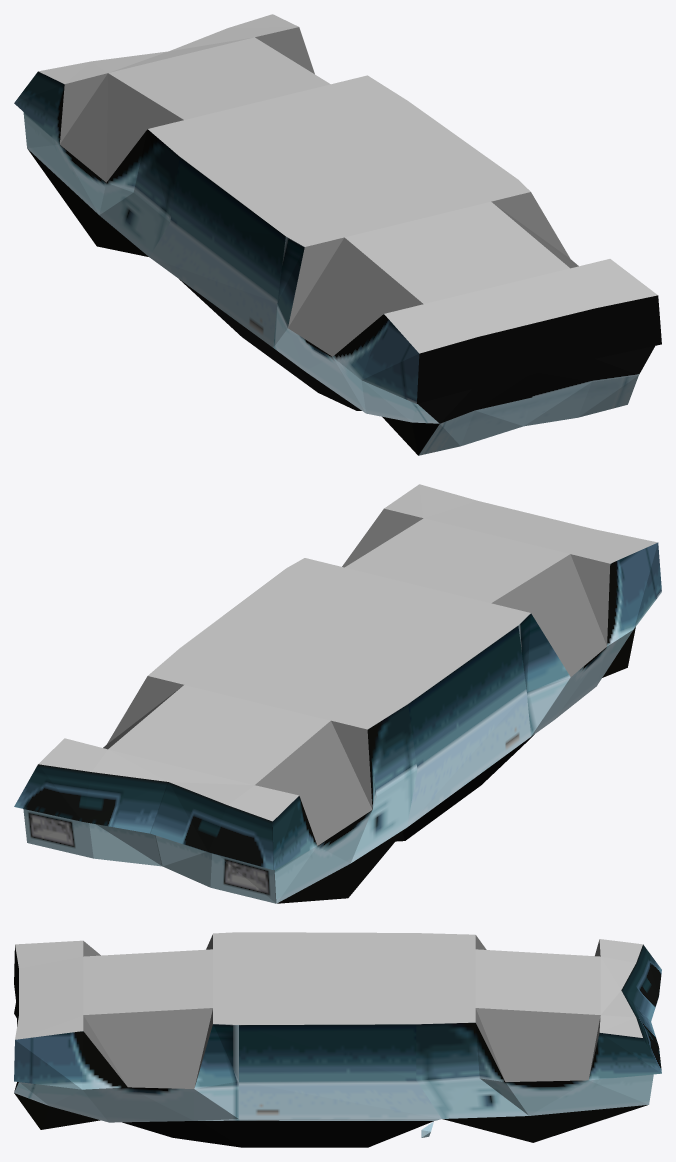
Rendered from CHICAGO_model1_damaged.obj.
3 views of the same model, one above another, from view 1: azimuth 30°, elevation 25°; view 2: azimuth 150°, elevation 25°; view 3: azimuth 270°, elevation 25° (orthographic). The views are drawn at different scales.
Parts seen in each view (by area): view 1: CHICAGO_model1_damaged; view 2: CHICAGO_model1_damaged; view 3: CHICAGO_model1_damaged.
Boxes of the visible parts, x1=… form: CHICAGO_model1_damaged: x1=14, y1=14, x2=661, y2=455; CHICAGO_model1_damaged: x1=14, y1=484, x2=661, y2=903; CHICAGO_model1_damaged: x1=14, y1=932, x2=661, y2=1147.
Bounding box in the file's own units: 270 × 160 × 654.
